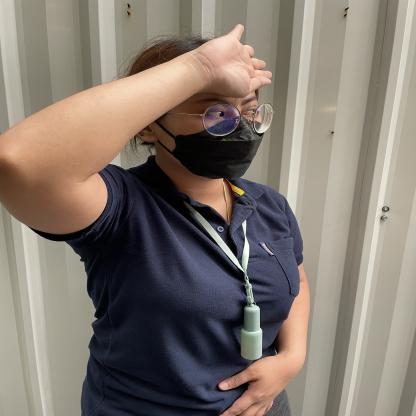Sick: (96, 14, 335, 118)
